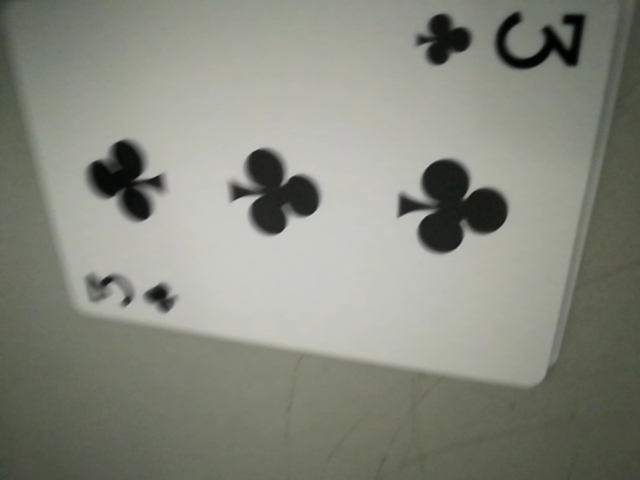mh 3: (412, 1, 588, 80)
